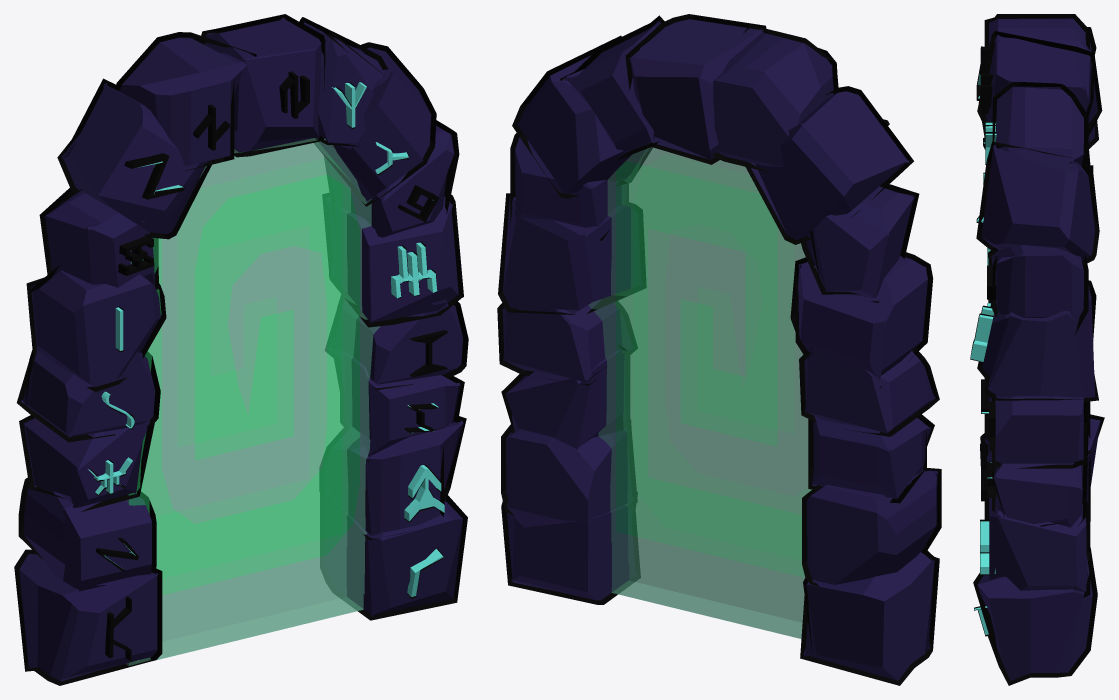
Rendered from portal.fbx.
3 renders of one model, left to right at view 1: azimuth 30°, elevation 25°; view 2: azimuth 150°, elevation 25°; view 3: azimuth 270°, elevation 25°, orthographic. The views are drawn at different scales.
Visible parts, largest first — view 1: Stone, Portal, Runes; view 2: Stone, Portal; view 3: Stone, Runes.
Part boxes in pixels (x1=…): Stone: x1=14, y1=14, x2=468, y2=685; Portal: x1=126, y1=138, x2=379, y2=665; Runes: x1=88, y1=71, x2=448, y2=661; Stone: x1=497, y1=14, x2=941, y2=685; Portal: x1=588, y1=147, x2=811, y2=638; Stone: x1=973, y1=14, x2=1104, y2=685; Runes: x1=970, y1=46, x2=996, y2=636.
Size of the model in its own units: 2027 by 633 by 2881.
